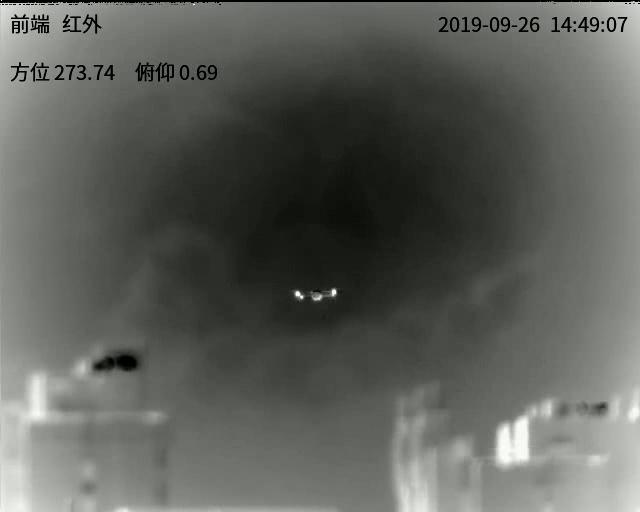DRONE: (293, 286, 338, 302)
